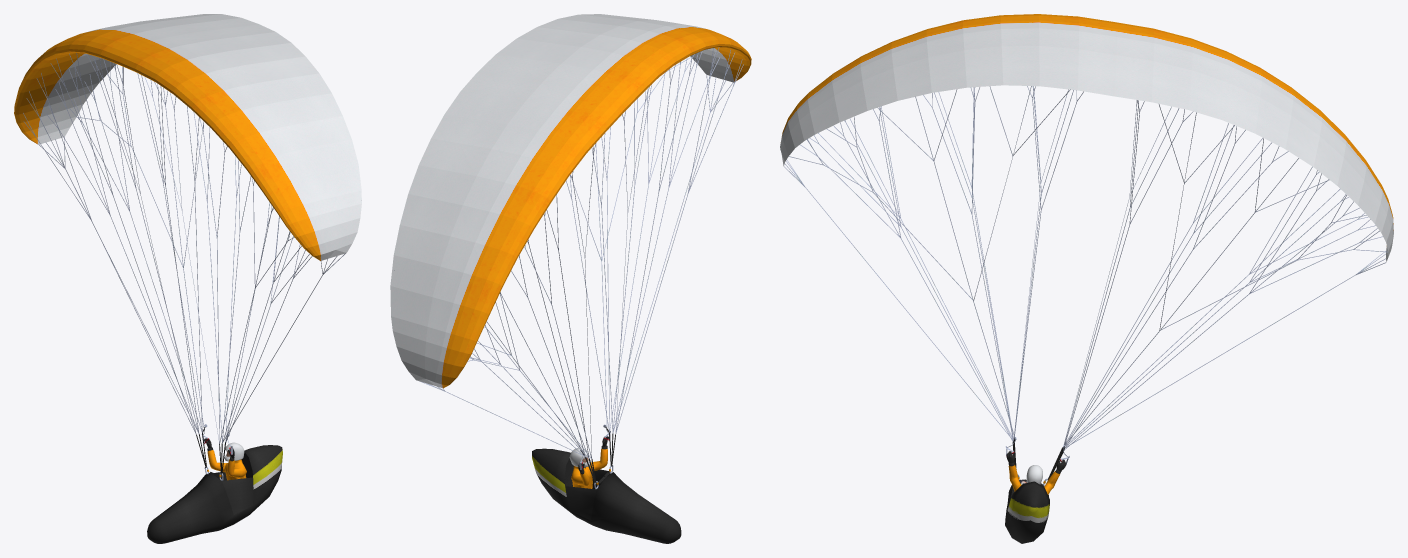
Rendered from paraglider-yellow-ridge-cbj_LOD00.gltf.
The picture shows the model from 3 angles, left to right: view 1: azimuth 30°, elevation 25°; view 2: azimuth 150°, elevation 25°; view 3: azimuth 270°, elevation 25°; orthographic projection. The views are drawn at different scales.
Parts seen in each view (by area): view 1: harness-plus00; view 2: harness-plus00; view 3: harness-plus00.
Boxes of the visible parts, box(x1,y1,x2,y2) form: harness-plus00: box(14, 14, 361, 543); harness-plus00: box(390, 14, 751, 543); harness-plus00: box(780, 14, 1393, 543).
Size of what is drawn, in the model's own units: 2.82 by 8.2 by 9.07.
